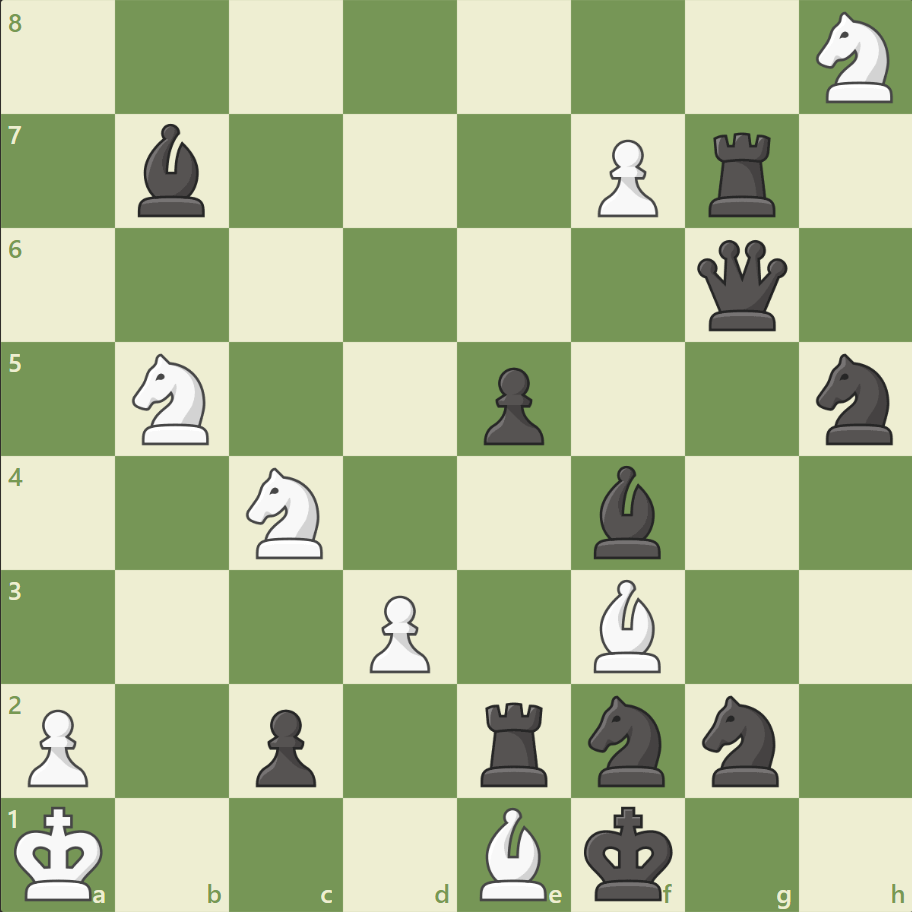B: (471, 801, 555, 904), (585, 574, 669, 676)
K: (11, 798, 111, 906)
N: (124, 348, 222, 450), (806, 7, 903, 110), (238, 461, 335, 564)
P: (20, 700, 95, 791), (588, 132, 662, 223), (361, 586, 435, 677)
b: (585, 460, 669, 563), (131, 120, 215, 222)
k: (579, 798, 679, 906)
n: (579, 688, 676, 791), (692, 688, 789, 791), (806, 348, 903, 450)
p: (474, 359, 549, 450), (247, 700, 322, 791)
q: (691, 236, 790, 335)
r: (700, 125, 783, 222), (473, 693, 556, 790)
